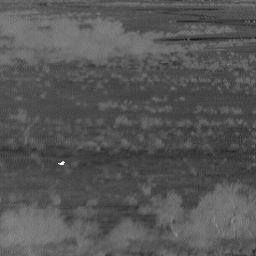Target: (56, 160, 66, 167)
